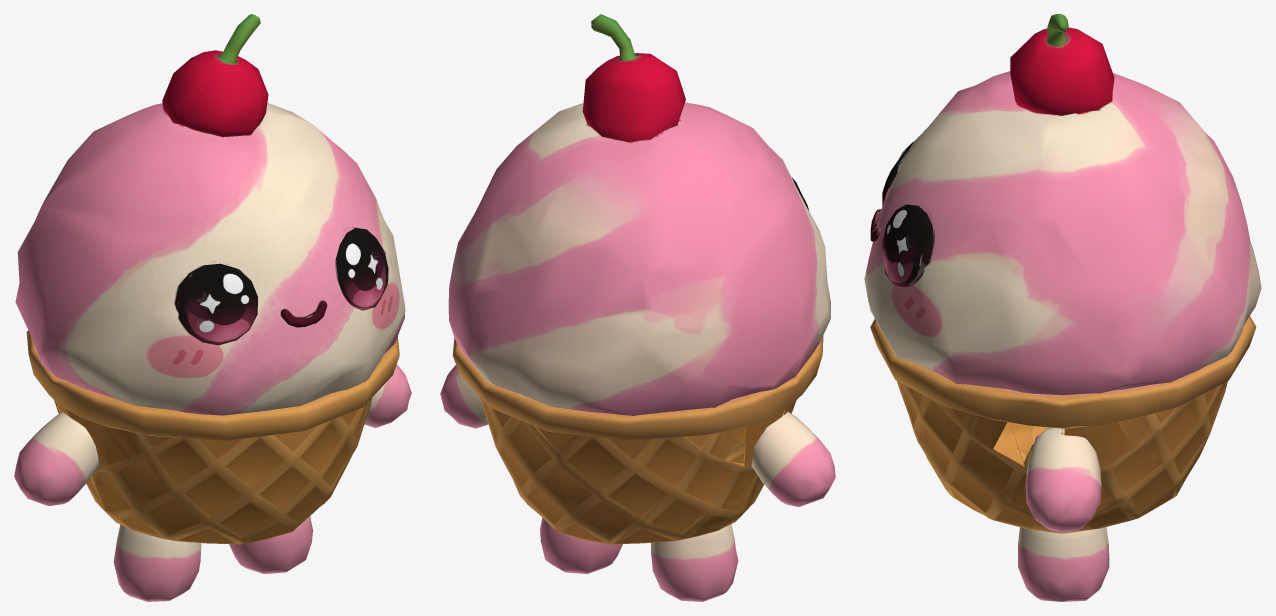
Rendered from source.fbx.
The picture shows the model from 3 angles, left to right: view 1: azimuth 30°, elevation 25°; view 2: azimuth 150°, elevation 25°; view 3: azimuth 270°, elevation 25°; orthographic projection. The views are drawn at different scales.
Visible parts, largest first — view 1: Mesh_0; view 2: Mesh_0; view 3: Mesh_0.
Part boxes in pixels (left/top/right/bottom): Mesh_0: left=14, top=14, right=411, bottom=601; Mesh_0: left=440, top=14, right=835, bottom=601; Mesh_0: left=864, top=14, right=1261, bottom=601.
Size of the model in its own units: 51.12 by 70 by 44.19.
1 material, 1 textured.
